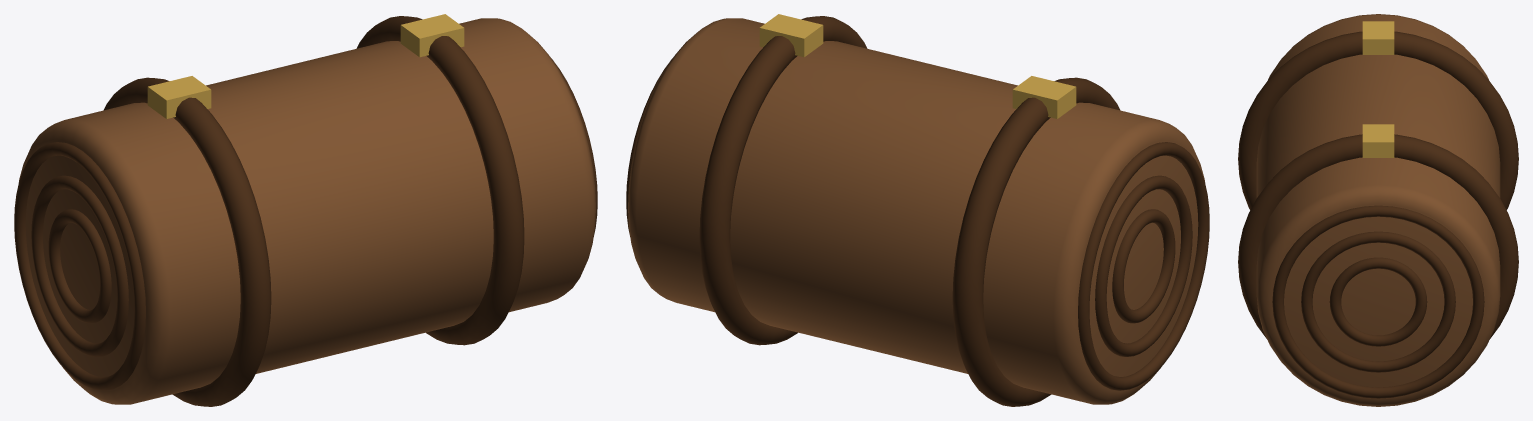
Rendered from leder_rau.glb.
The picture shows the model from 3 angles, left to right: view 1: azimuth 30°, elevation 25°; view 2: azimuth 150°, elevation 25°; view 3: azimuth 270°, elevation 25°; orthographic projection. The views are drawn at different scales.
Visible parts, largest first — view 1: Cylinder, Torus.006, Torus.007, Torus, Torus.001, Torus.002, Cube.001, Cube; view 2: Cylinder, Torus.006, Torus.007, Torus, Torus.001, Torus.002, Cube.001, Cube; view 3: Cylinder, Torus.007, Torus.006, Torus.003, Torus.004, Torus.005, Cube, Cube.001.
Part boxes in pixels (x1,y1,x2,y2): Cylinder: (18, 18, 595, 404); Torus.006: (103, 77, 271, 406); Torus.007: (356, 16, 524, 345); Torus: (14, 142, 145, 390); Torus.001: (31, 175, 128, 356); Torus.002: (48, 209, 111, 323); Cube.001: (400, 14, 464, 57); Cube: (147, 76, 211, 118); Cylinder: (628, 18, 1205, 404); Torus.006: (952, 77, 1120, 406); Torus.007: (699, 16, 867, 345); Torus: (1078, 142, 1209, 390); Torus.001: (1095, 175, 1192, 356); Torus.002: (1112, 209, 1175, 323); Cube.001: (759, 14, 823, 57); Cube: (1012, 76, 1076, 118); Cylinder: (1256, 14, 1500, 406); Torus.007: (1238, 134, 1518, 338); Torus.006: (1238, 31, 1518, 209); Torus.003: (1272, 205, 1484, 398); Torus.004: (1301, 231, 1455, 372); Torus.005: (1329, 257, 1427, 346); Cube: (1362, 21, 1394, 54); Cube.001: (1362, 124, 1394, 157).
Size of the model in its own units: 0.31 by 0.197 by 0.196.
